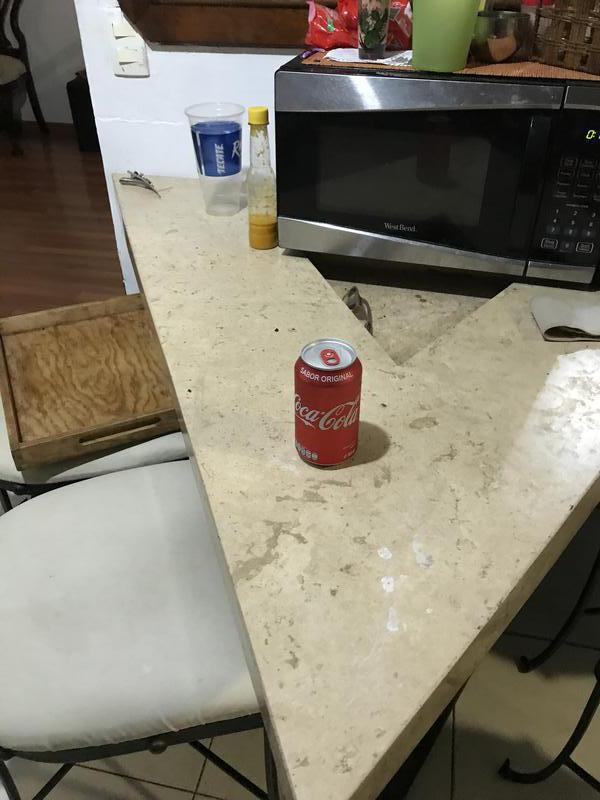coca_cola: (291, 339, 362, 467)
